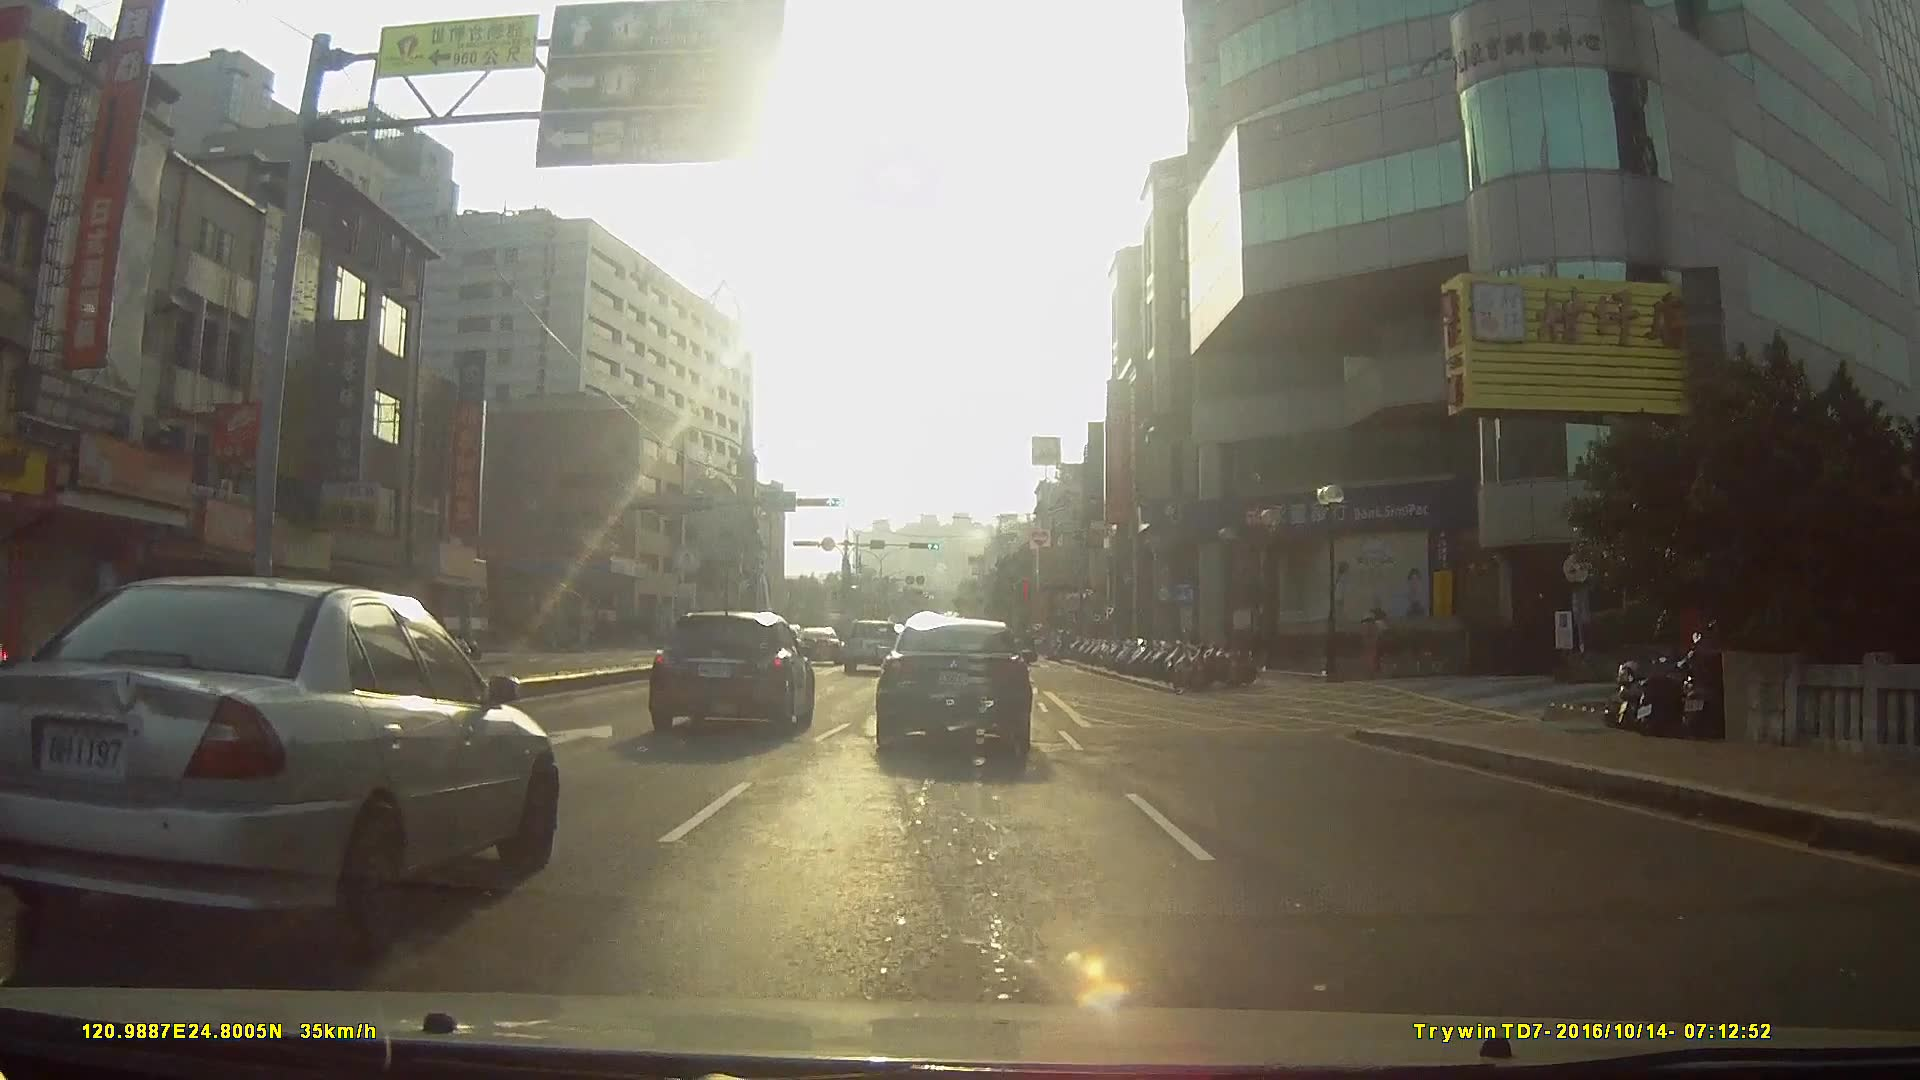pedestrian: (1351, 596, 1385, 680)
vehicle: (0, 569, 552, 960), (874, 608, 1034, 755), (645, 603, 815, 734), (838, 616, 899, 676), (791, 621, 842, 661)
